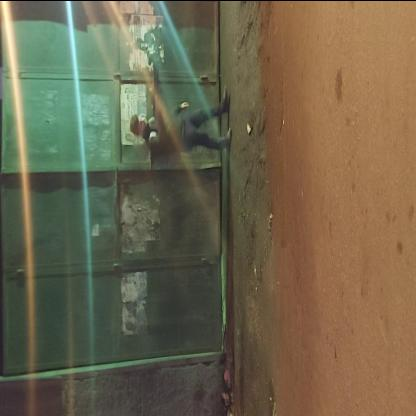long weapon: (149, 60, 168, 122)
